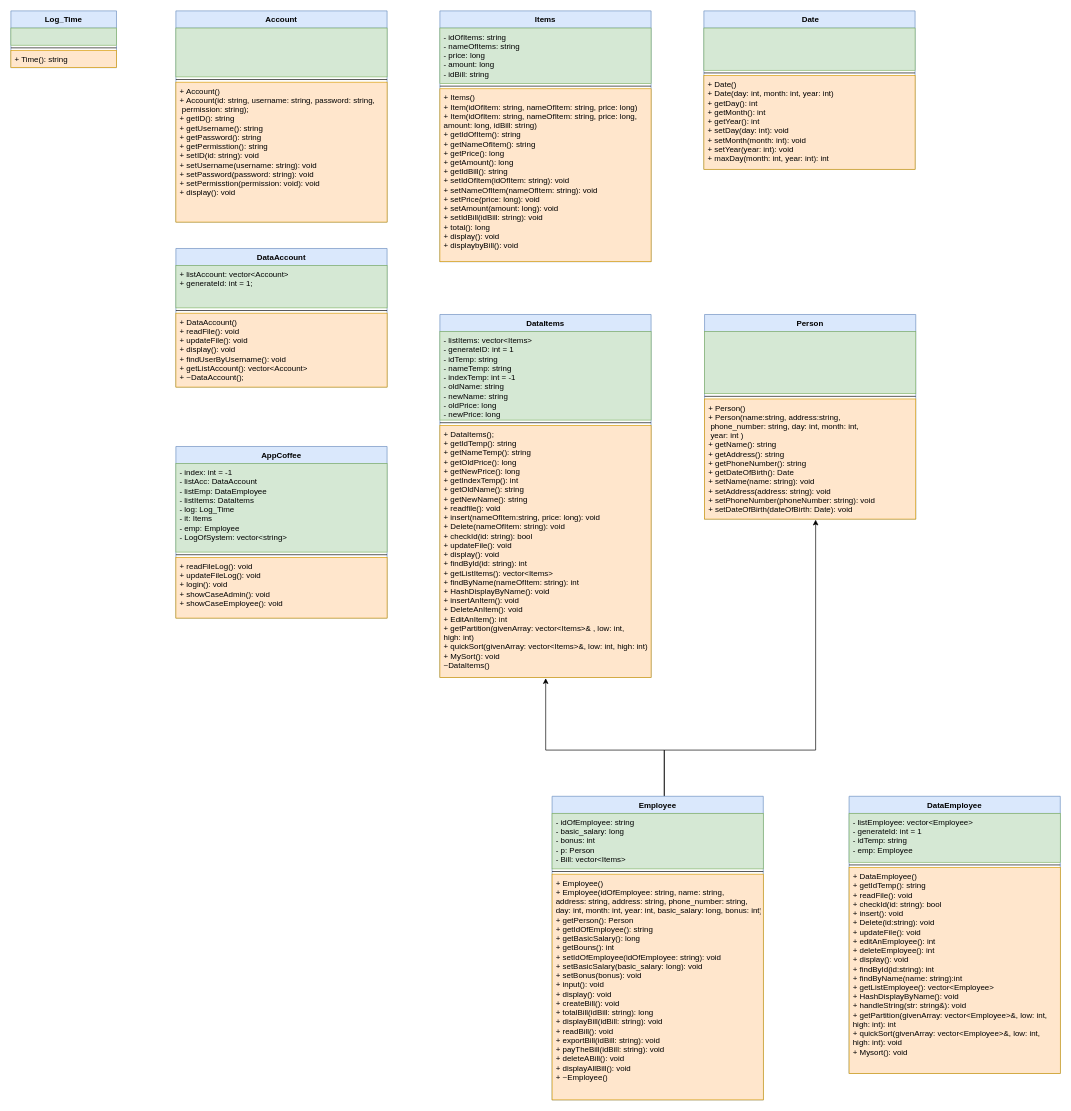
Image size: 1071x1111. Some labels were removed from this diagram. The centre of each missing label's shape, as x and y in pixels:
"+ name: string + address: string + phone_number: string + dateOfBirth: Date" goes at (810,362).
"- day: int - month: int - year: int" goes at (809,48).
"- id: string - username: string - password: string - permisson: string" goes at (281,52).
